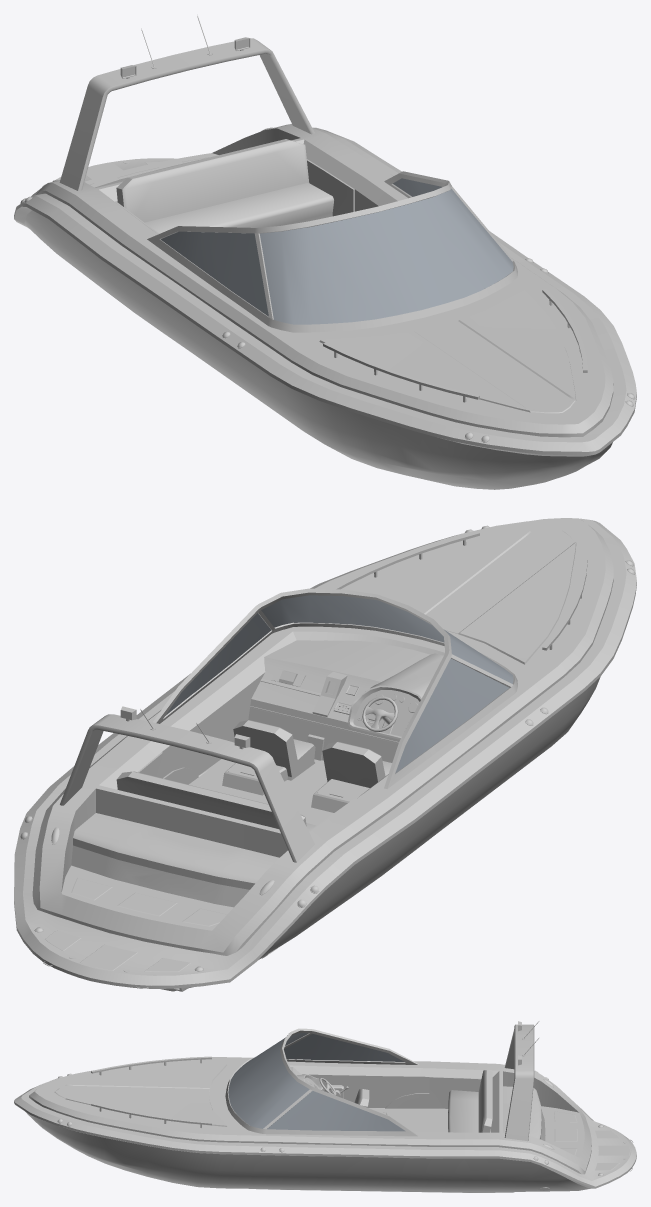
The model's file is TestBoat4.fbx.
3 views of the same model, one above another, from view 1: azimuth 30°, elevation 25°; view 2: azimuth 150°, elevation 25°; view 3: azimuth 270°, elevation 25° (orthographic). The views are drawn at different scales.
Visible parts, largest first — view 1: Motorboat, Motorboat.001; view 2: Motorboat, Motorboat.001; view 3: Motorboat, Motorboat.001.
Part boxes in pixels (<box>): Motorboat: <box>14,15,636,489</box>; Motorboat.001: <box>161,178,513,324</box>; Motorboat: <box>14,518,636,991</box>; Motorboat.001: <box>165,595,513,773</box>; Motorboat: <box>14,1021,636,1192</box>; Motorboat.001: <box>228,1033,405,1131</box>.
Bounding box in the file's own units: 357 × 271 × 996.
